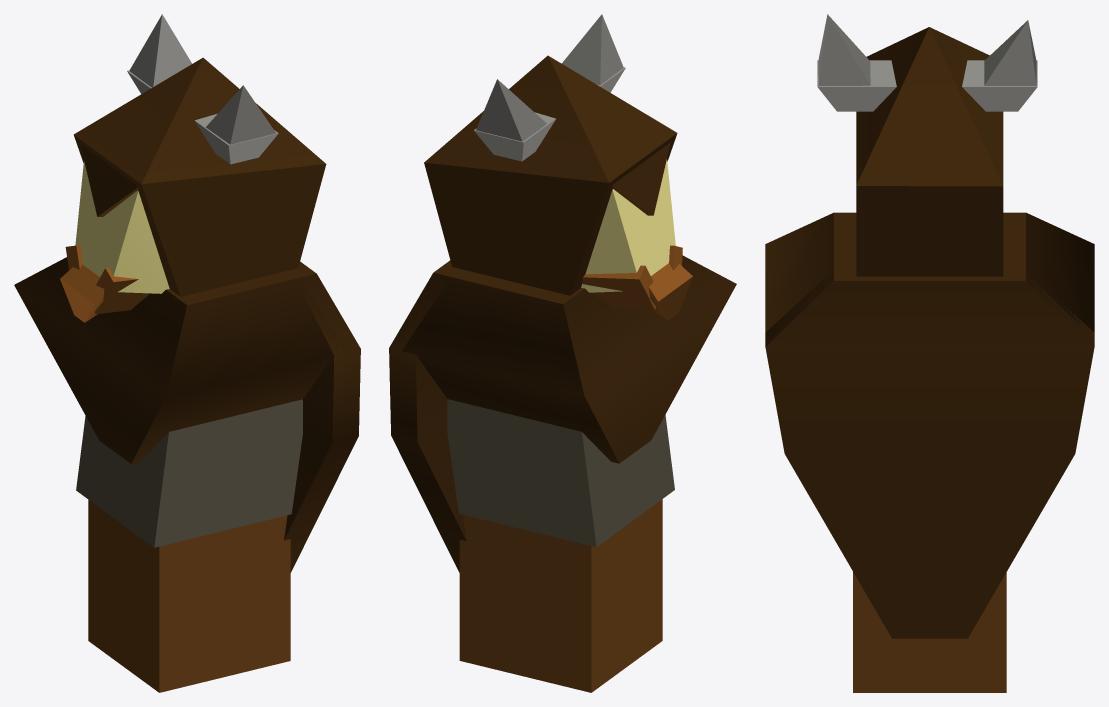
Rendered from vikinggeneralthief.fbx.
The picture shows the model from 3 angles, left to right: view 1: azimuth 30°, elevation 25°; view 2: azimuth 150°, elevation 25°; view 3: azimuth 270°, elevation 25°; orthographic projection. The views are drawn at different scales.
Visible parts, largest first — view 1: polySurface198; view 2: polySurface198; view 3: polySurface198.
Part boxes in pixels (x1,y1,x2,y2): polySurface198: (14,14,360,692); polySurface198: (389,14,736,692); polySurface198: (765,14,1094,692).
Bounding box in the file's own units: 13.7 × 36.28 × 16.71.
1 material, 1 textured.
